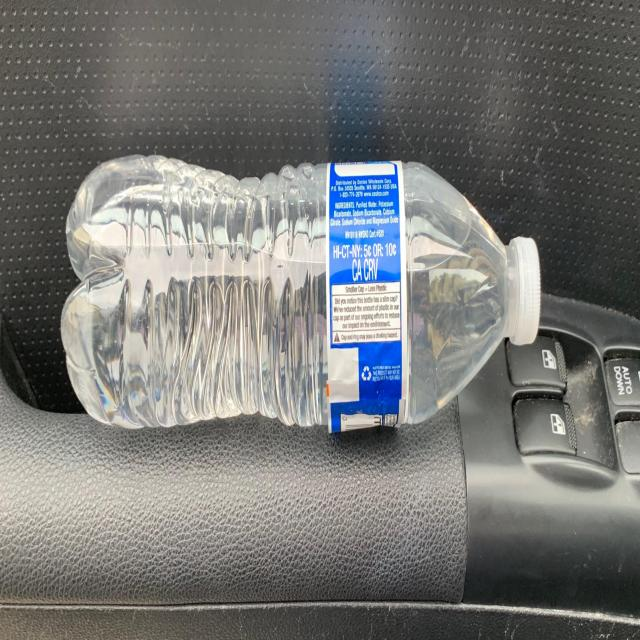plastic_bottle: (60, 131, 547, 447)
